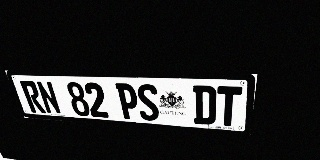2: (83, 82, 109, 118)
8: (65, 82, 91, 116)
D: (193, 85, 217, 125)
N: (35, 81, 62, 114)
P: (115, 83, 140, 120)
R: (19, 80, 46, 113)
S: (136, 84, 160, 121)
T: (216, 86, 243, 127)
